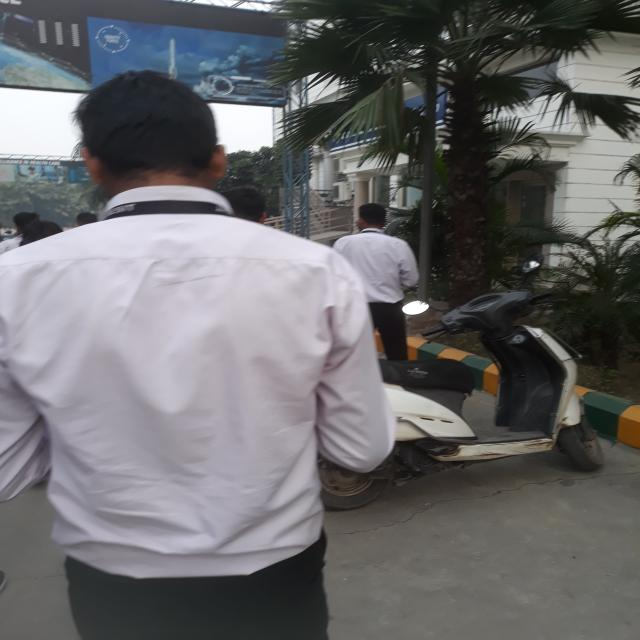unsafe: (5, 68, 389, 640), (332, 203, 432, 366)
